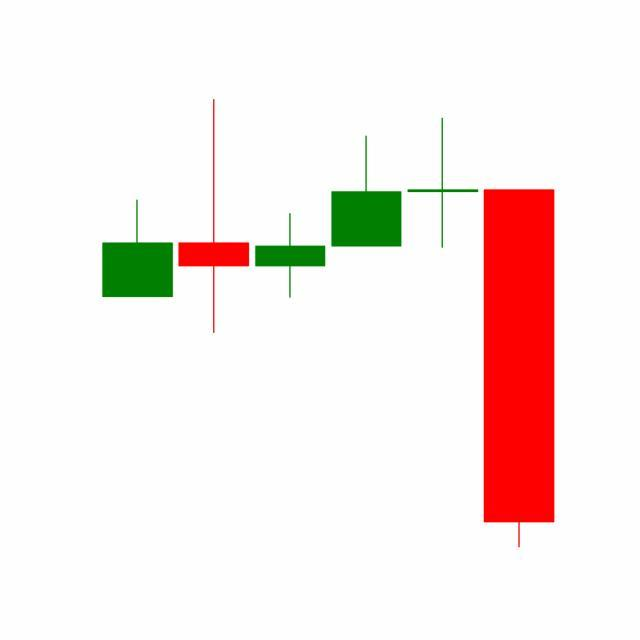Spinning Top: (404, 116, 482, 250)
